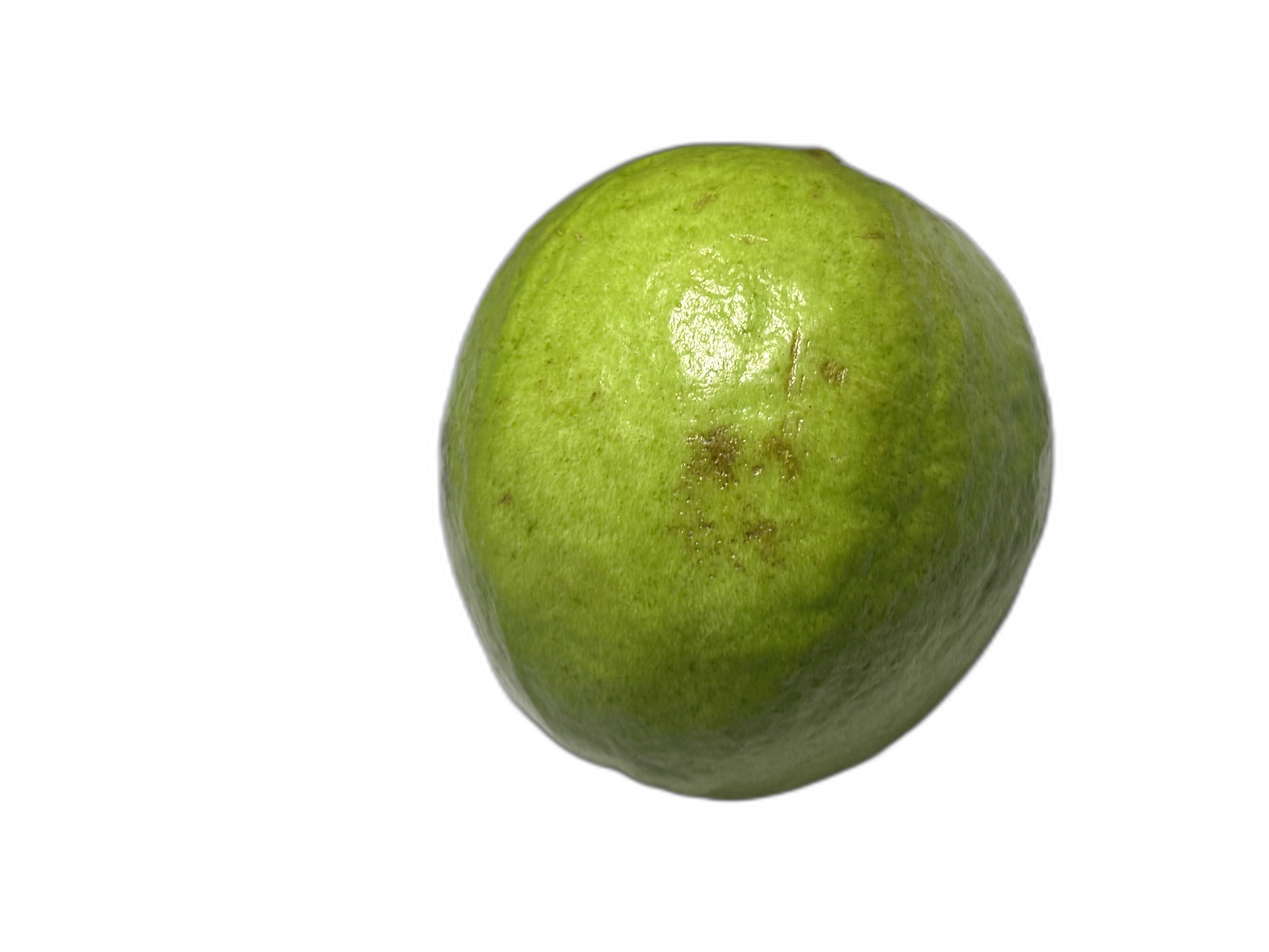guava: (108, 98, 1222, 839)
